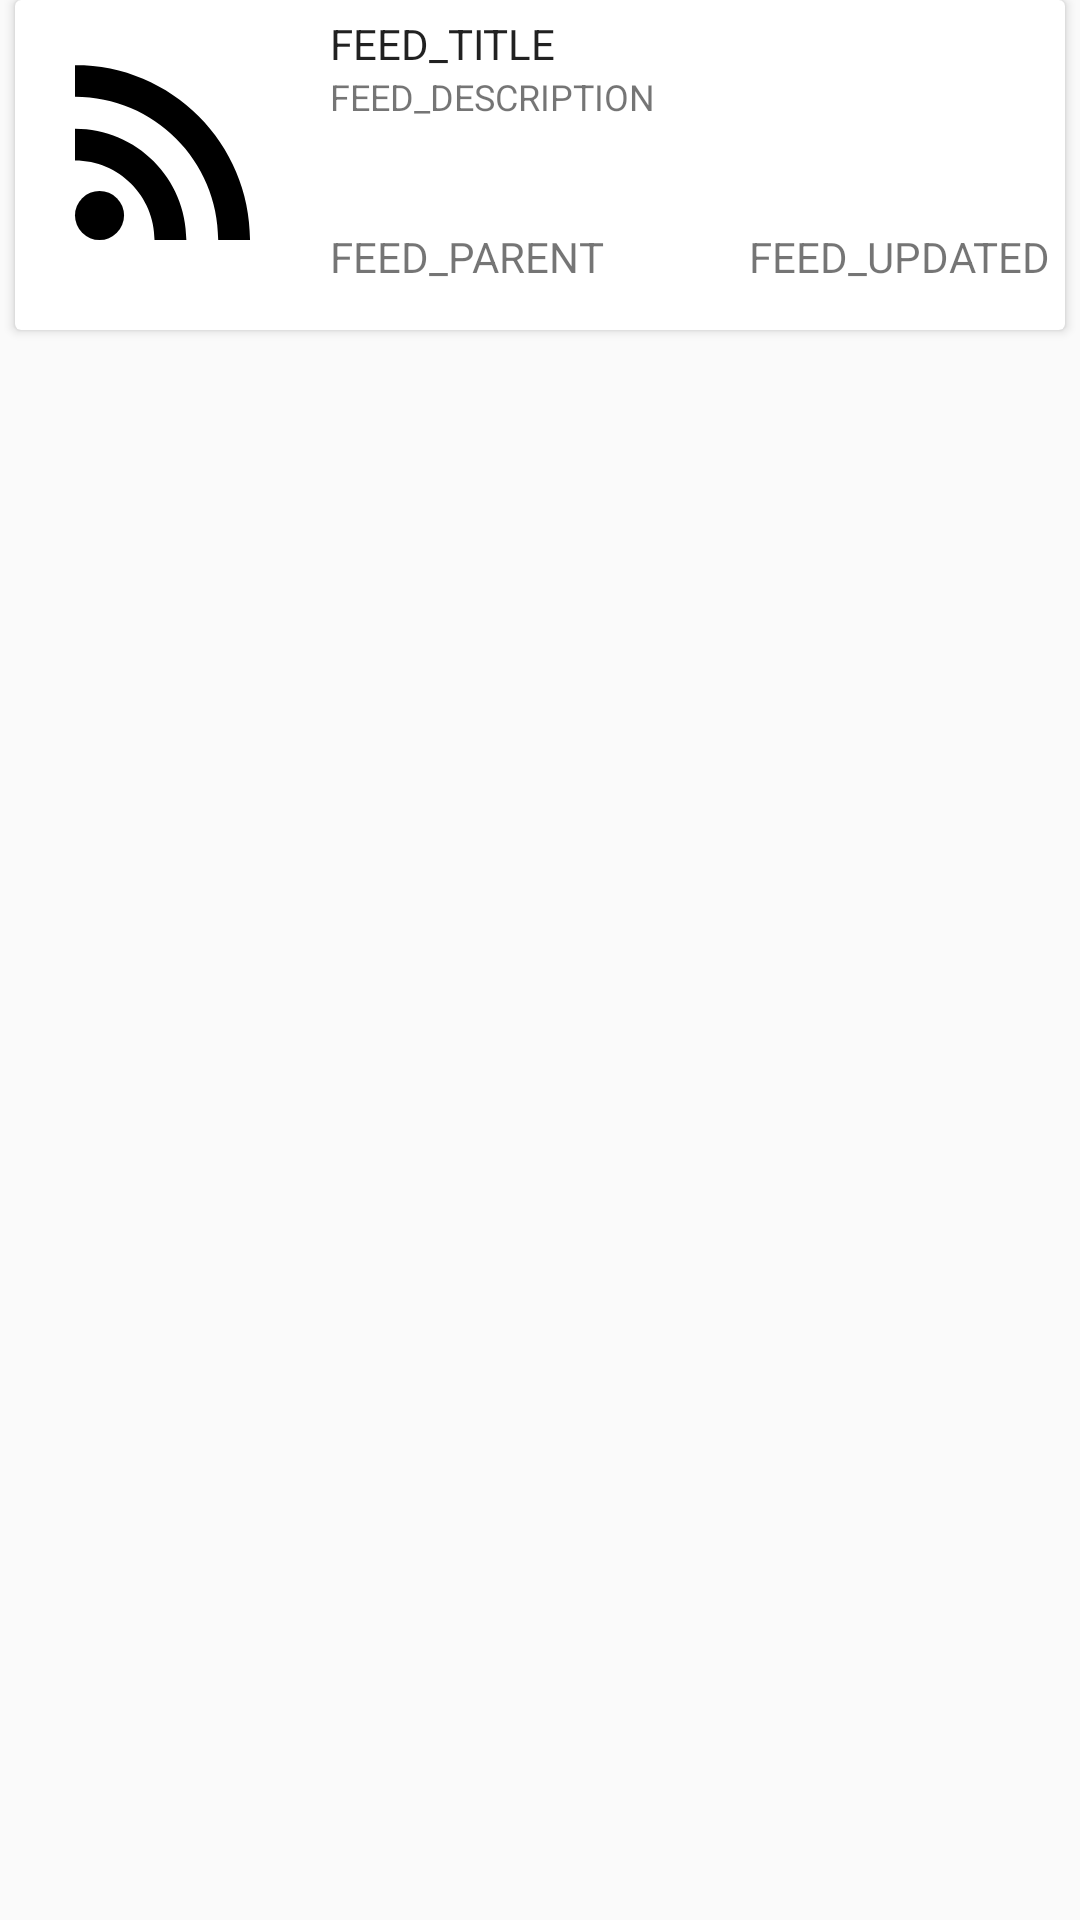

Icon bounding boxes for this 1080 x 1920 phone screenshot, format (x1, y1, x2, y2):
rss feed: (75, 65, 250, 240)
